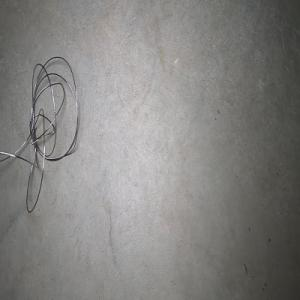Wire: (0, 56, 78, 212)
